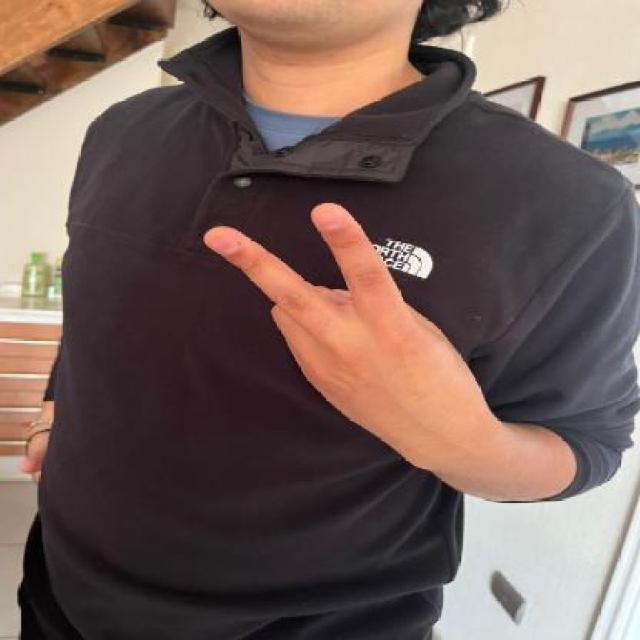V: (202, 191, 490, 457)
